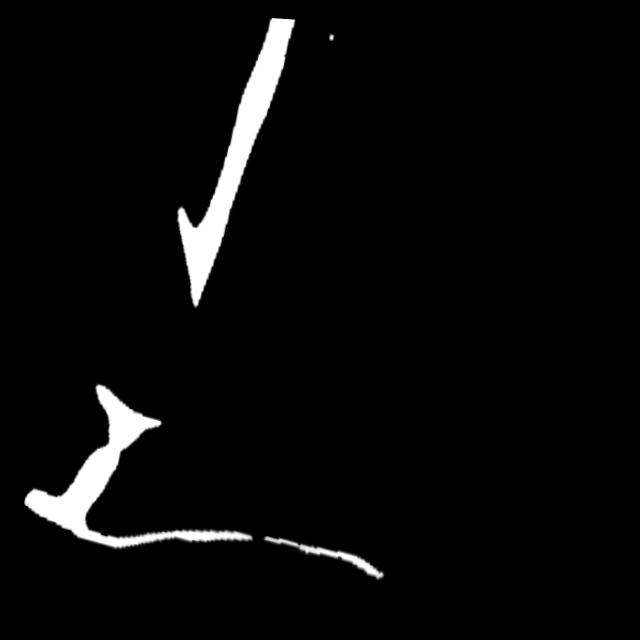sup: (239, 519, 275, 548)
